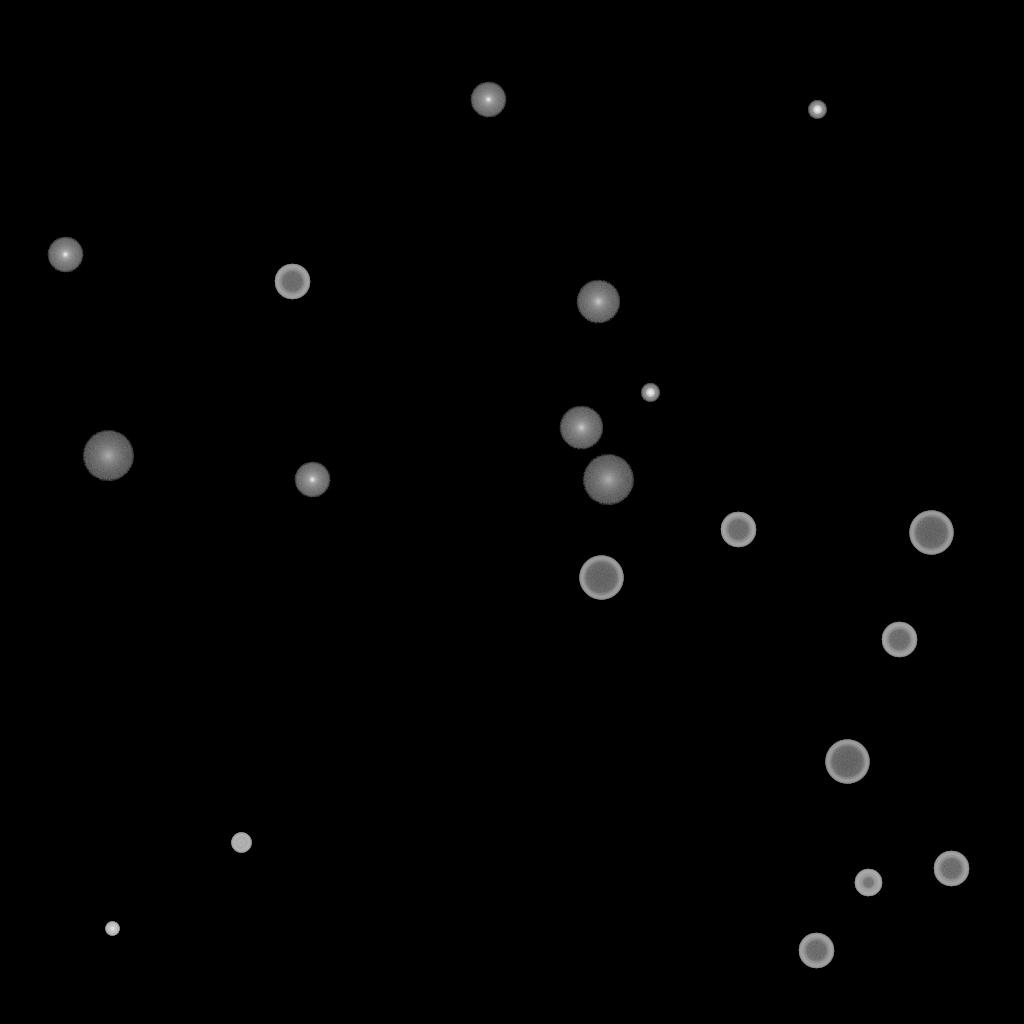depth:-20: (641, 384, 659, 402), (808, 101, 826, 119)
depth:-30: (105, 922, 119, 936)
depth:-40: (231, 833, 251, 853)
depth:-50: (854, 869, 882, 897)
depth:-60: (274, 264, 310, 300), (720, 512, 756, 548), (933, 851, 969, 887), (798, 933, 834, 969), (881, 622, 917, 658)
depth:-70: (579, 556, 623, 600), (825, 740, 869, 784), (909, 511, 953, 555)
depth:0: (470, 82, 506, 118), (47, 237, 83, 273), (294, 462, 330, 498)
depth:10: (559, 406, 603, 450), (576, 280, 620, 324)
depth:20: (82, 431, 134, 481), (582, 455, 634, 505)
